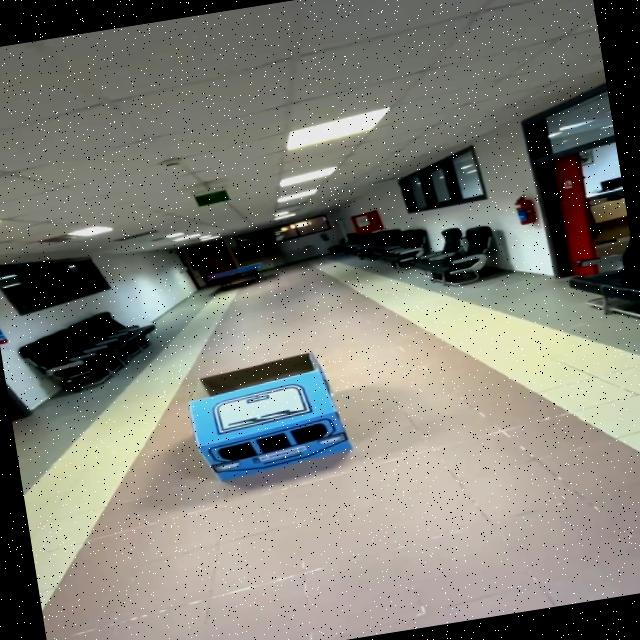blue_car: (137, 335, 386, 510)
